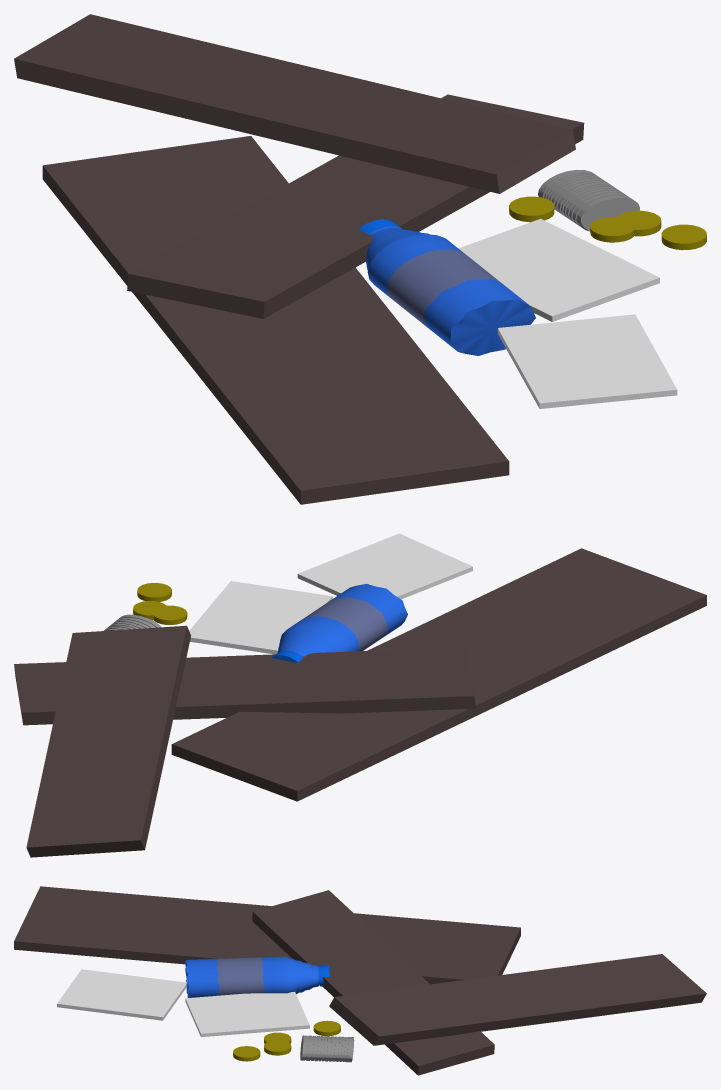
Rendered from sm_debris_1.fbx.
The picture shows the model from 3 angles, top to bottom: view 1: azimuth 30°, elevation 25°; view 2: azimuth 150°, elevation 25°; view 3: azimuth 270°, elevation 25°; orthographic projection. The views are drawn at different scales.
Visible parts, largest first — view 1: polySurface576; view 2: polySurface576; view 3: polySurface576.
Boxes of the visible parts, x1,y1,x2,y2 form: polySurface576: (14, 14, 706, 504); polySurface576: (14, 533, 706, 857); polySurface576: (14, 886, 706, 1075).
Bounding box in the file's own units: 105 × 10.12 × 174.
